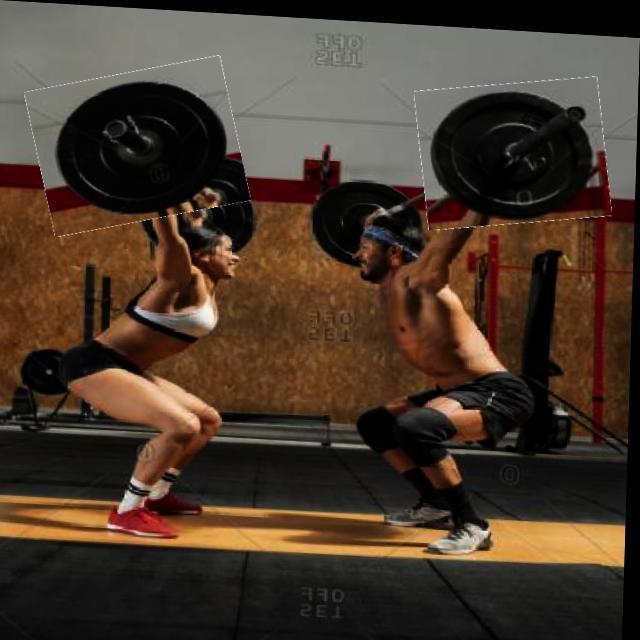barbell: (30, 55, 249, 235), (416, 68, 612, 227)
